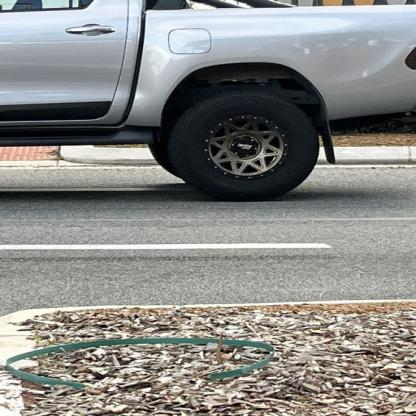Tire: (167, 90, 322, 202)
